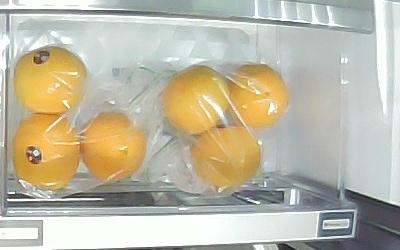orange_vinyl: (11, 113, 81, 192), (12, 45, 88, 115), (79, 111, 148, 185), (161, 63, 231, 135), (191, 124, 262, 189), (229, 63, 289, 129)
